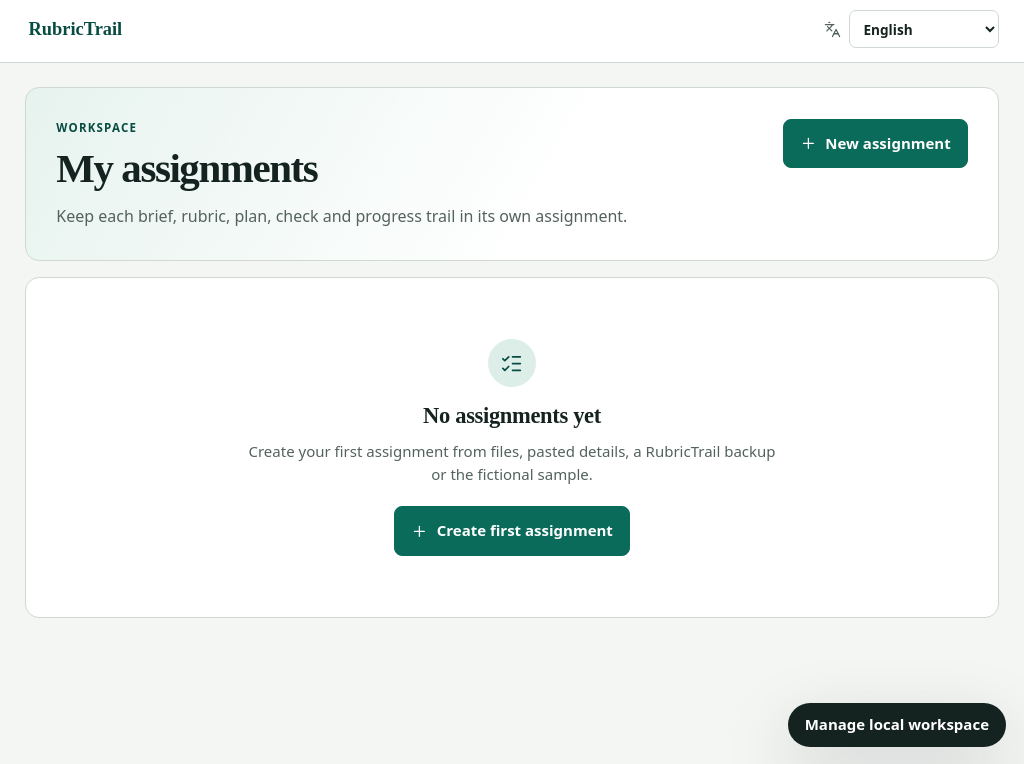
Test: WorkspaceActivationRoot › opens the real lifecycle panel from the production Dashboard
Expected: the heading "My assignments" is shown, [56,145,317,191]
Click the button "Manage local workspace" at (897,725), box [788,703,1006,747]
(page scrolled)
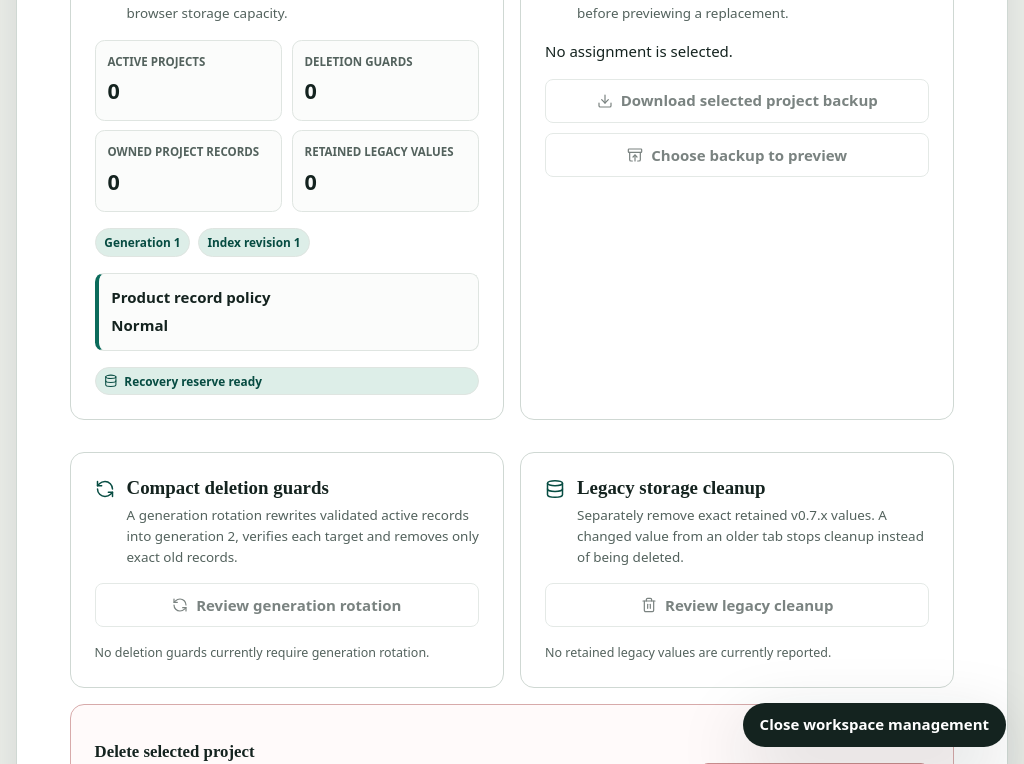
Now the text "Recovery reserve ready" is shown, box [95,367,479,396]
